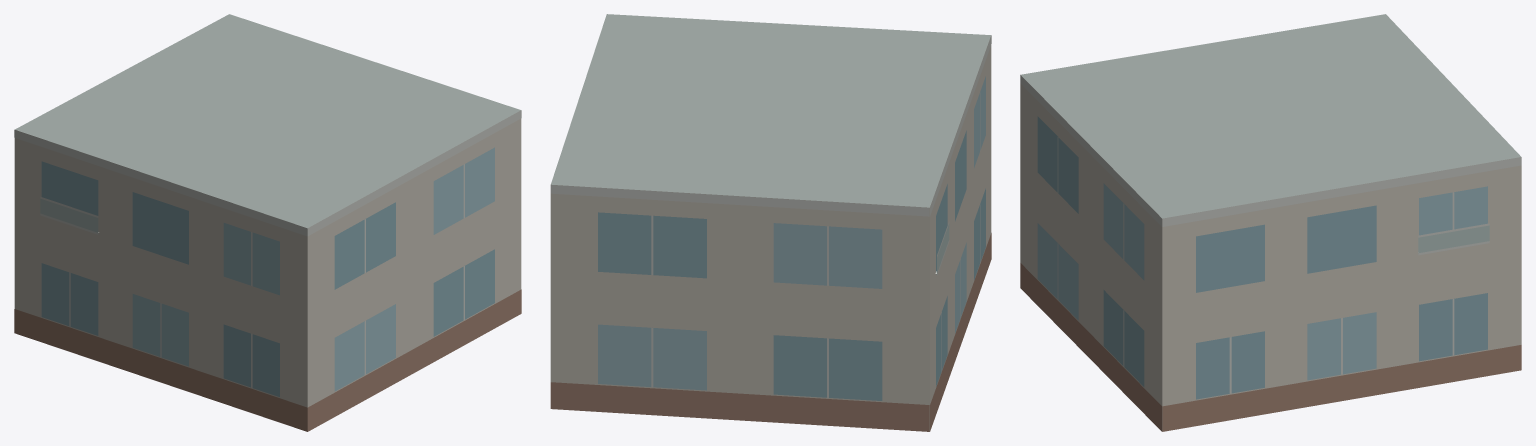
Rendered from survey-upis-32882400.glb.
The picture shows the model from 3 angles, left to right: view 1: azimuth 30°, elevation 25°; view 2: azimuth 150°, elevation 25°; view 3: azimuth 270°, elevation 25°; orthographic projection. The views are drawn at different scales.
Visible parts, largest first — view 1: survey-upis-32882400.tmp; view 2: survey-upis-32882400.tmp; view 3: survey-upis-32882400.tmp.
Boxes of the visible parts, x1,y1,x2,y2 form: survey-upis-32882400.tmp: (14, 14, 521, 431); survey-upis-32882400.tmp: (550, 14, 991, 431); survey-upis-32882400.tmp: (1020, 14, 1521, 431).
Size of the model in its own units: 12.56 by 6.1 by 13.
